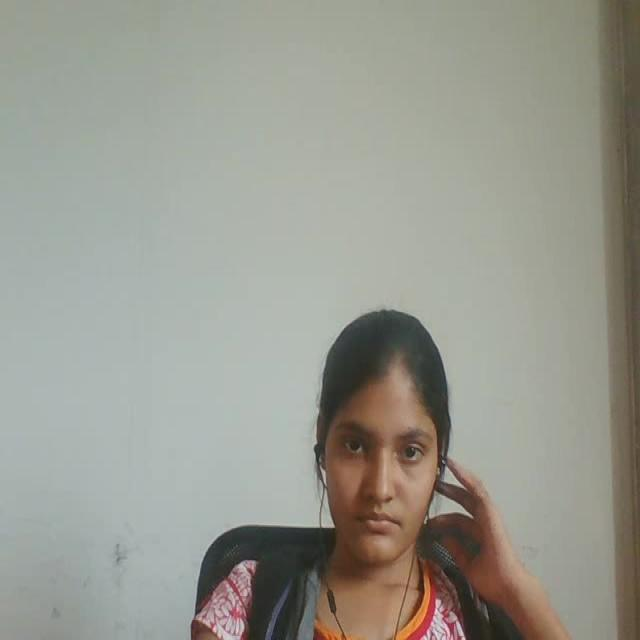Engaged: (288, 292, 467, 582)
